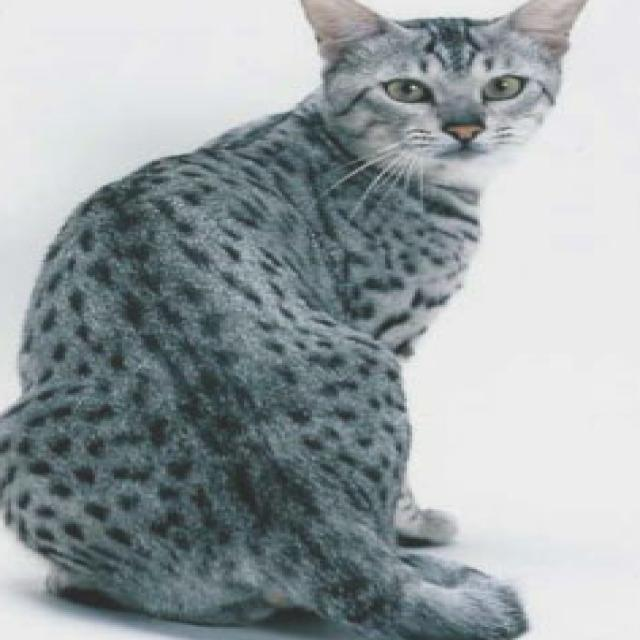Egyptian Mau: (0, 0, 597, 640)
